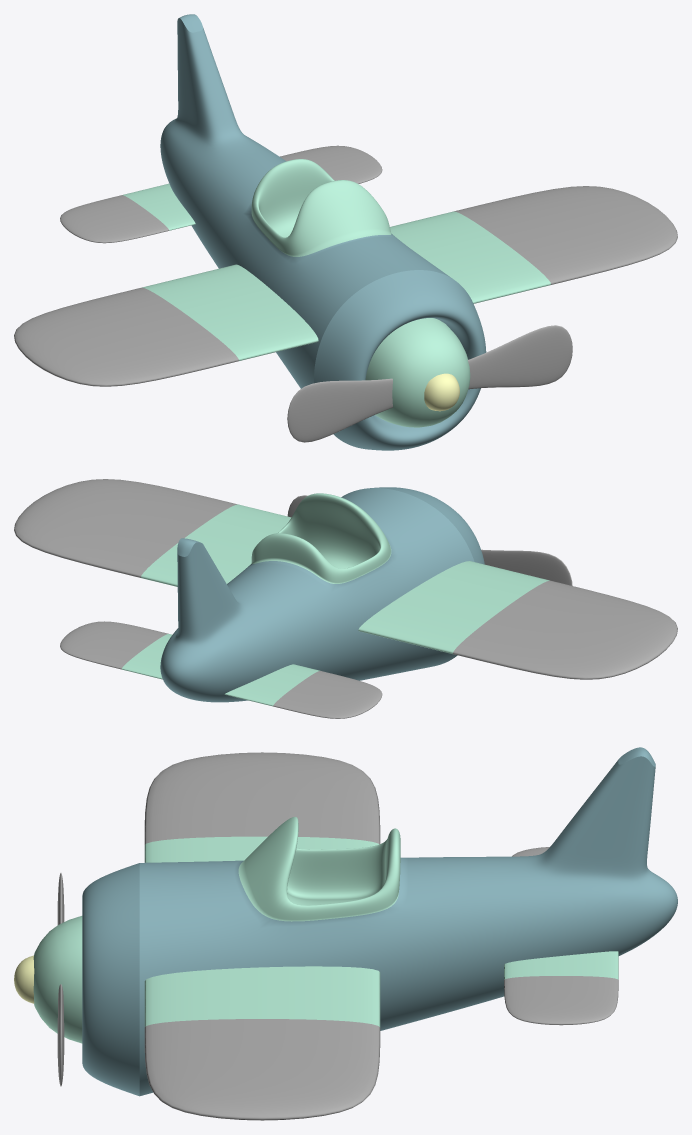
File: asset.glb
3 renders of one model, top to bottom at view 1: azimuth 30°, elevation 25°; view 2: azimuth 150°, elevation 25°; view 3: azimuth 270°, elevation 25°, orthographic. The views are drawn at different scales.
Visible parts, largest first — view 1: Cube, 立方体, 立方体.004, 立方体.001, 立方体.002, 立方体.003; view 2: Cube, 立方体, 立方体.001, 立方体.004; view 3: Cube, 立方体, 立方体.001, 立方体.002, 立方体.004, 立方体.003.
Part boxes in pixels (left/top/right/bottom): Cube: left=160, top=14, right=486, bottom=450; 立方体: left=14, top=186, right=677, bottom=386; 立方体.004: left=287, top=325, right=572, bottom=442; 立方体.001: left=60, top=145, right=382, bottom=243; 立方体.002: left=365, top=318, right=470, bottom=427; 立方体.003: left=424, top=373, right=459, bottom=411; Cube: left=160, top=487, right=484, bottom=702; 立方体: left=14, top=479, right=677, bottom=679; 立方体.001: left=60, top=621, right=382, bottom=718; 立方体.004: left=287, top=495, right=572, bottom=585; Cube: left=82, top=747, right=677, bottom=1096; 立方体: left=144, top=752, right=380, bottom=1120; 立方体.001: left=504, top=847, right=618, bottom=1025; 立方体.002: left=33, top=916, right=82, bottom=1043; 立方体.004: left=57, top=873, right=64, bottom=1086; 立方体.003: left=14, top=955, right=34, bottom=1003.
Bounding box in the file's own units: 6.73 × 2.86 × 5.16.
